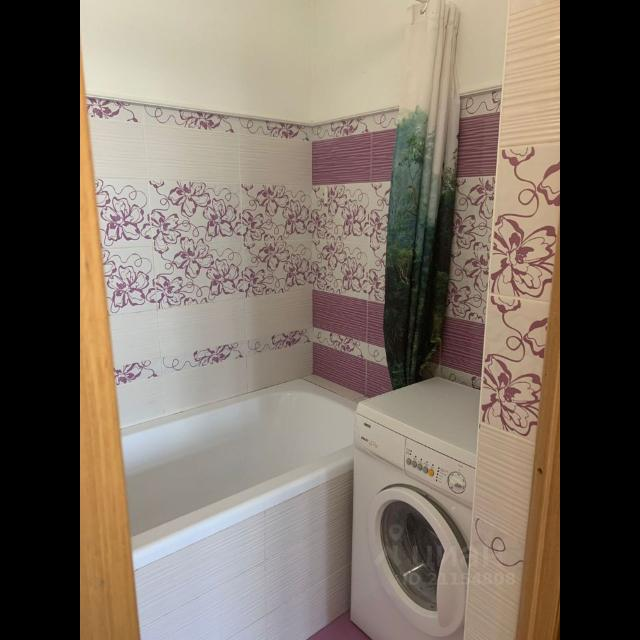Washing-Machine: (350, 374, 478, 640)
